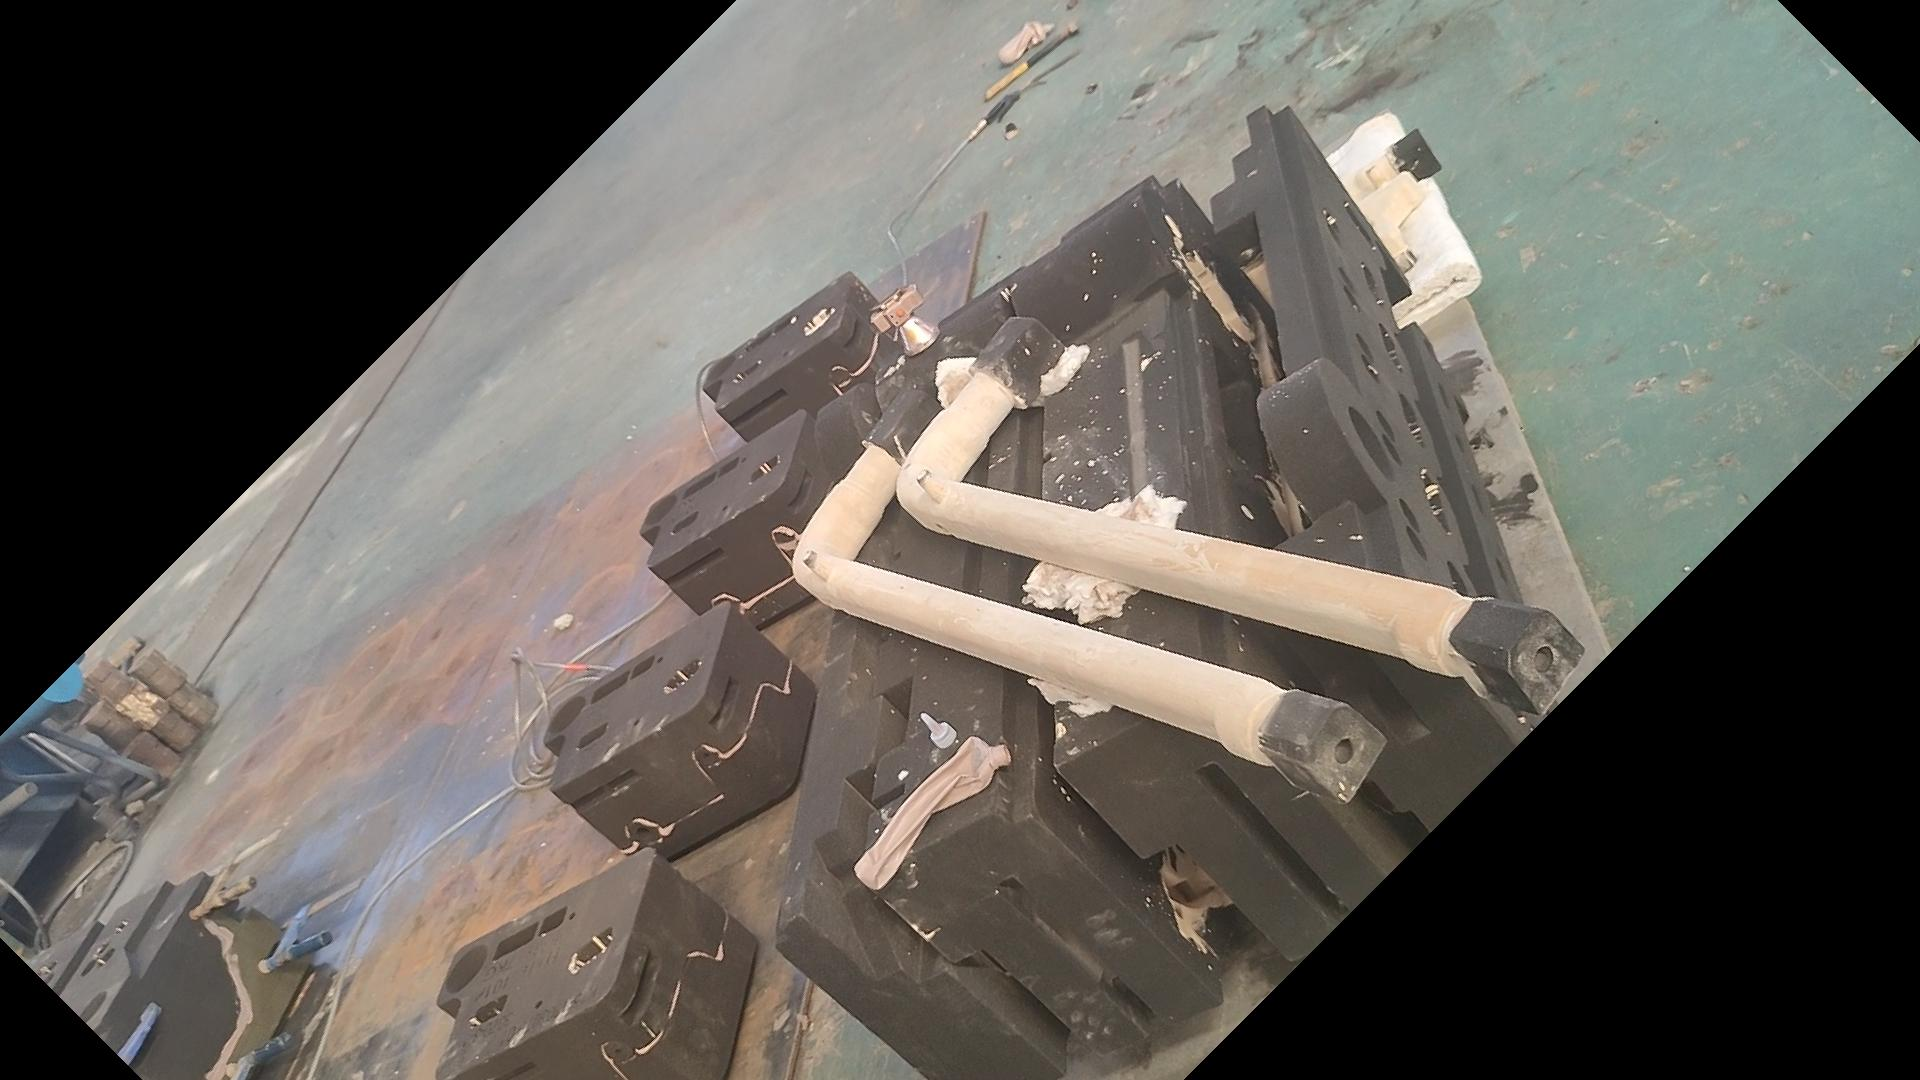pouring hole: (1348, 407, 1396, 483), (444, 943, 487, 992), (547, 696, 588, 736), (71, 992, 108, 1025), (642, 495, 675, 526), (705, 355, 735, 382)
